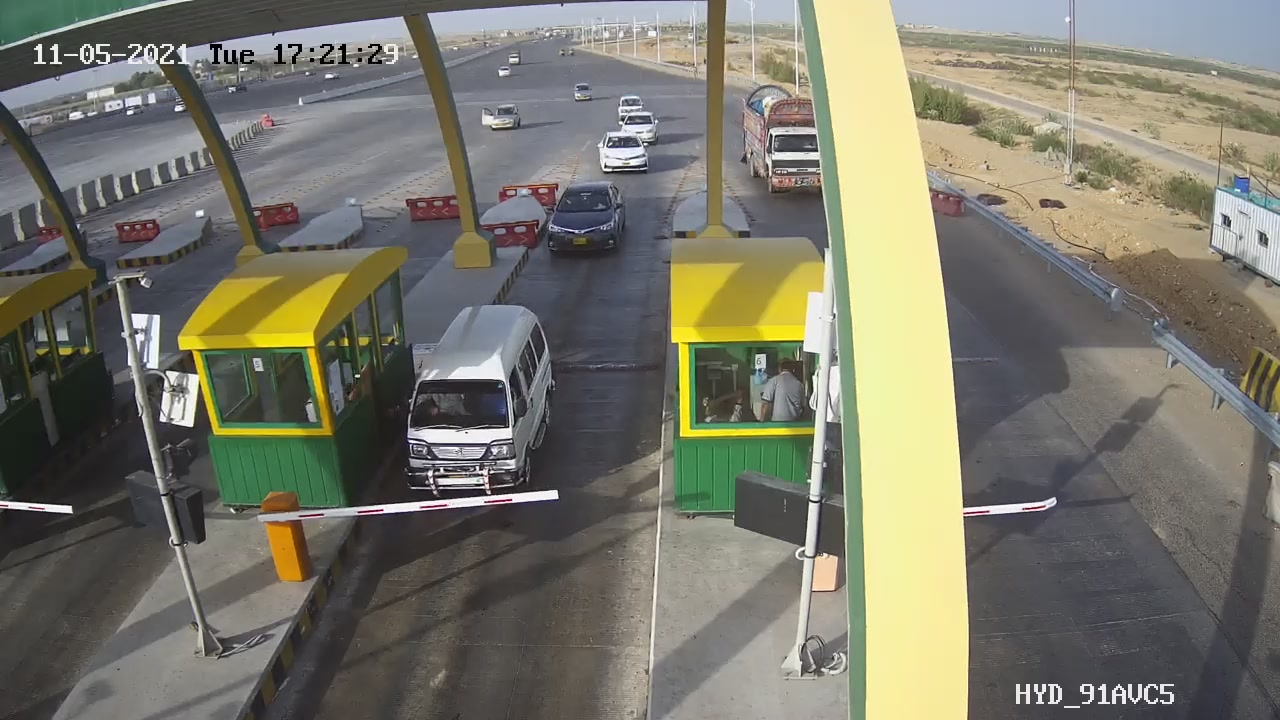F1: (383, 287, 573, 520), (537, 174, 639, 266)
